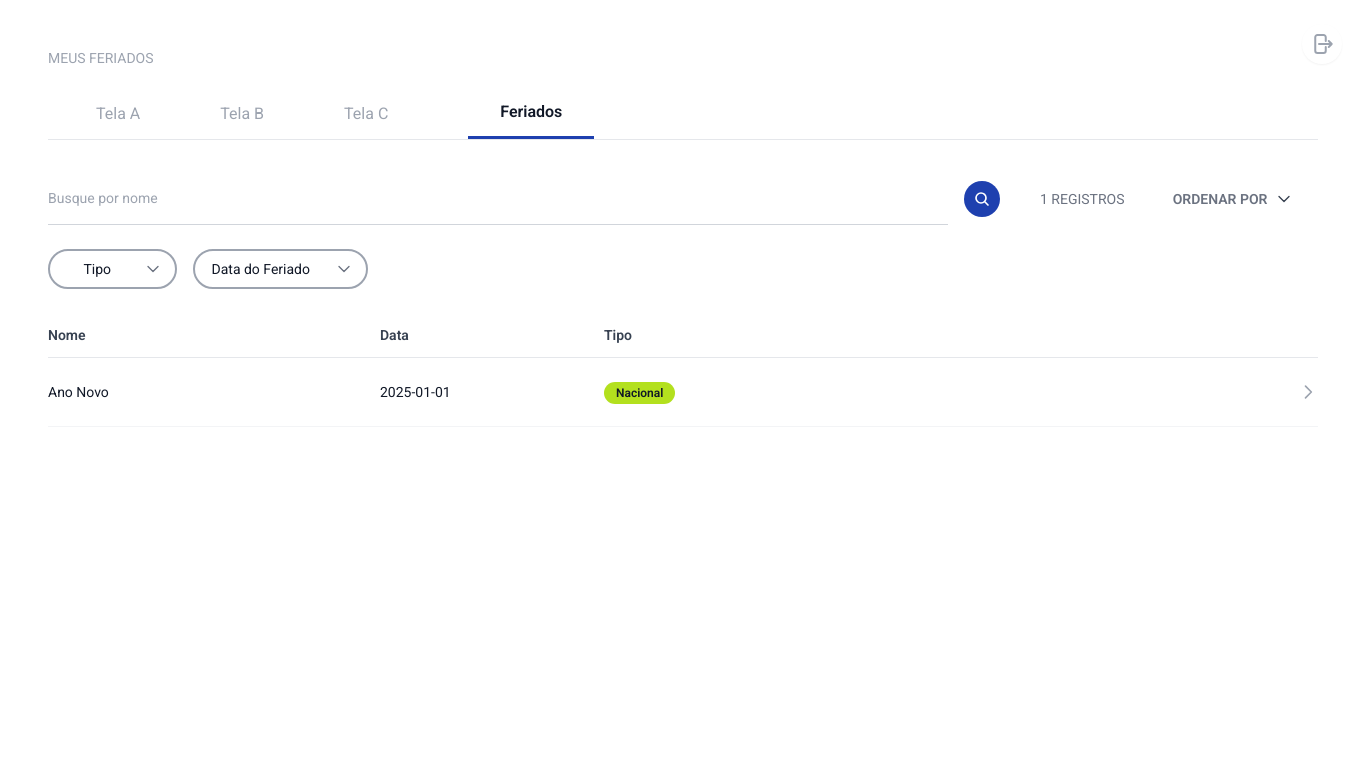
HomePage › fecha modal ao clicar no botao fechar
Expected: the text "Ano Novo" is shown, left=48, top=384, right=109, bottom=400
Click the button with aria-label "ver detalhes do feriado ano novo" at (78, 392), box left=48, top=358, right=1318, bottom=427
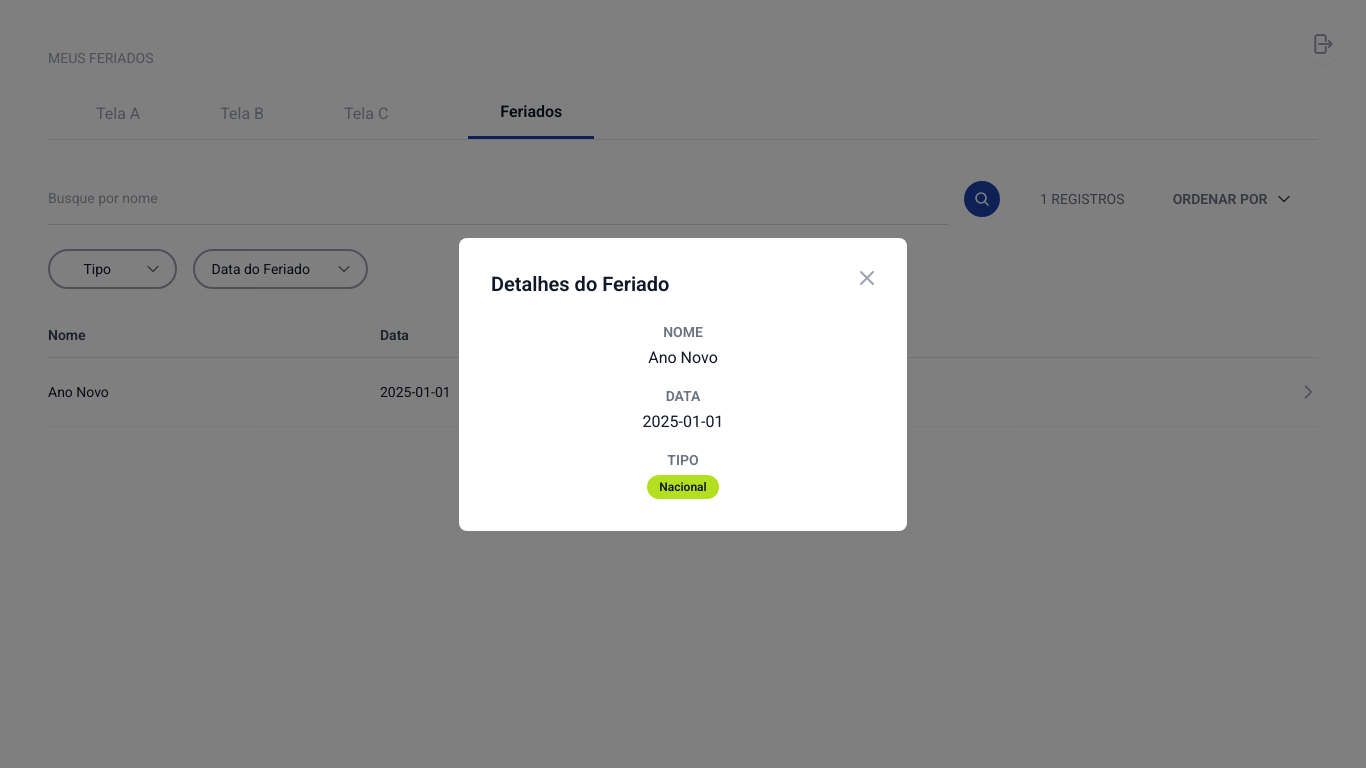
Now the heading "Detalhes do Feriado" is shown, box left=491, top=270, right=669, bottom=298
Click the button named "Fechar modal" at (867, 278), box left=855, top=266, right=879, bottom=290
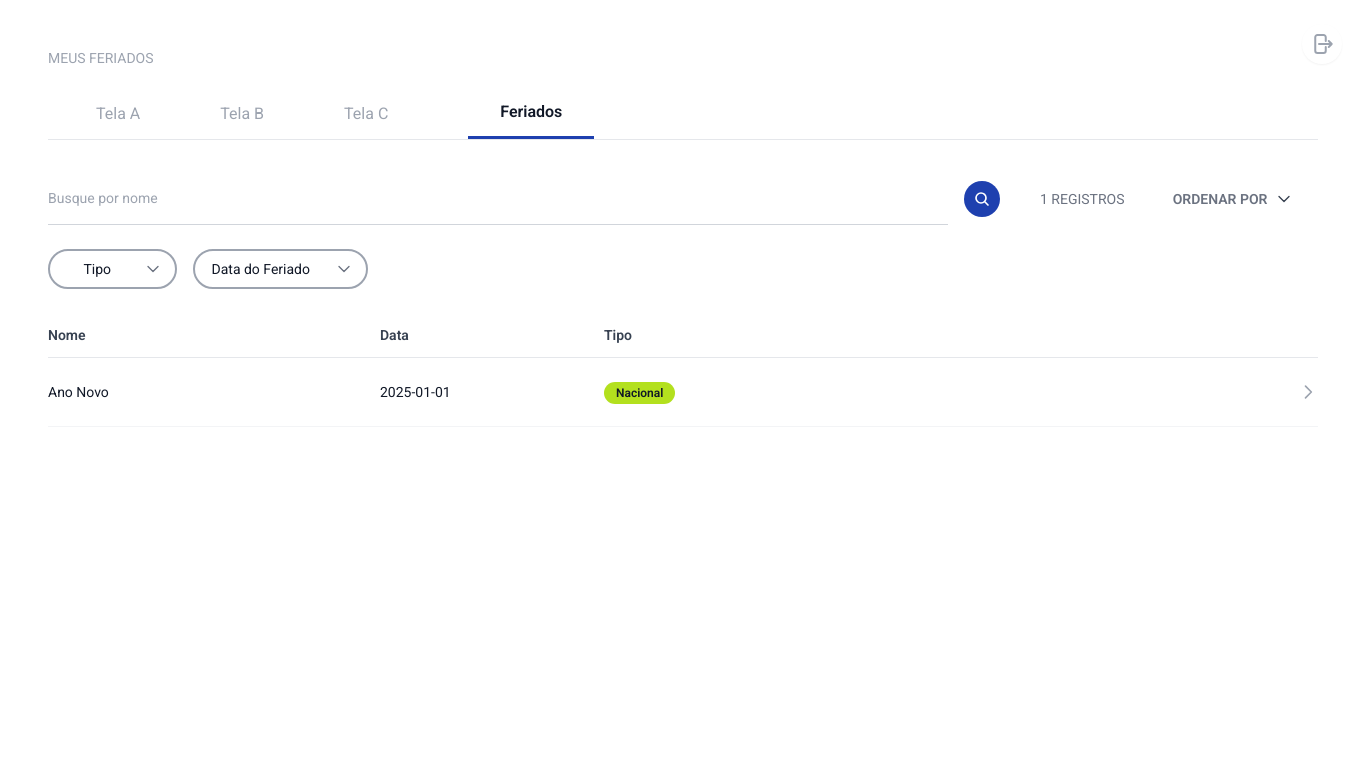
Now the button "Detalhes do Feriado" is gone
